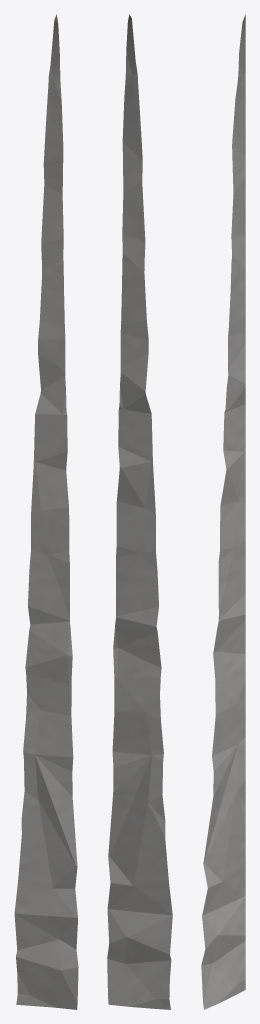
The picture shows the model from 3 angles, left to right: view 1: azimuth 30°, elevation 25°; view 2: azimuth 210°, elevation 25°; view 3: azimuth 270°, elevation 25°; orthographic projection. The views are drawn at different scales.
Bounding box in the file's own units: 0.0374 × 0.8312 × 0.0336.
Materials: 1 (1 with a texture image).
